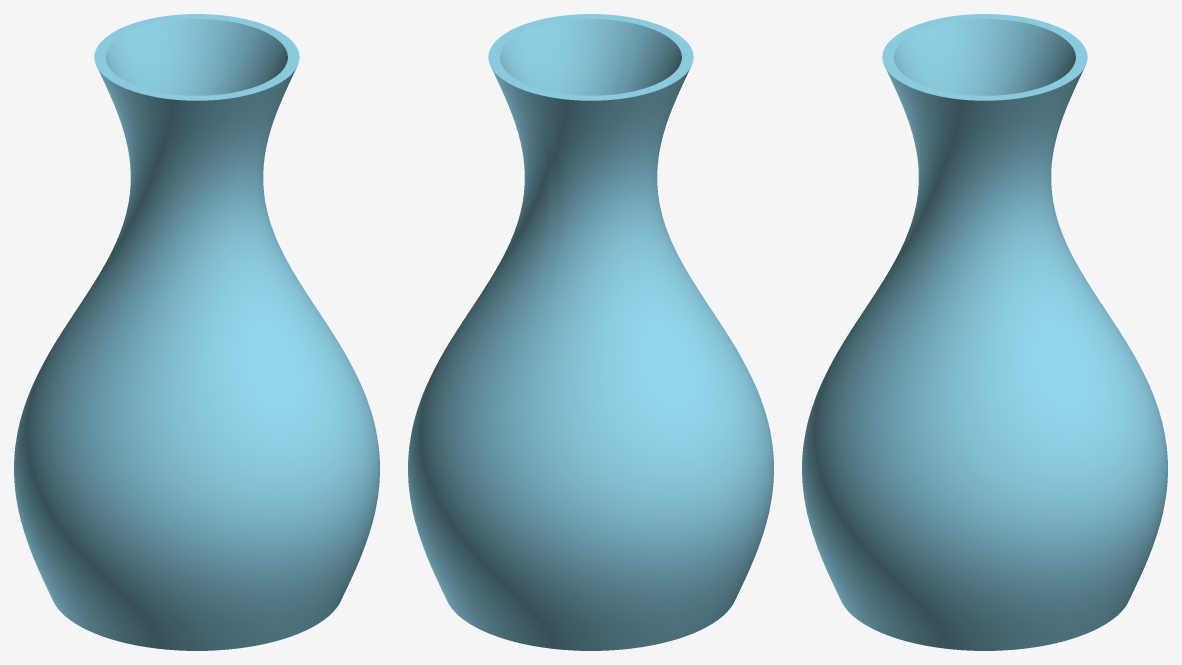
The model's file is gallery-2.glb.
The picture shows the model from 3 angles, left to right: view 1: azimuth 30°, elevation 25°; view 2: azimuth 150°, elevation 25°; view 3: azimuth 270°, elevation 25°; orthographic projection.
Bounding box in the file's own units: 62.42 × 100 × 62.38.
